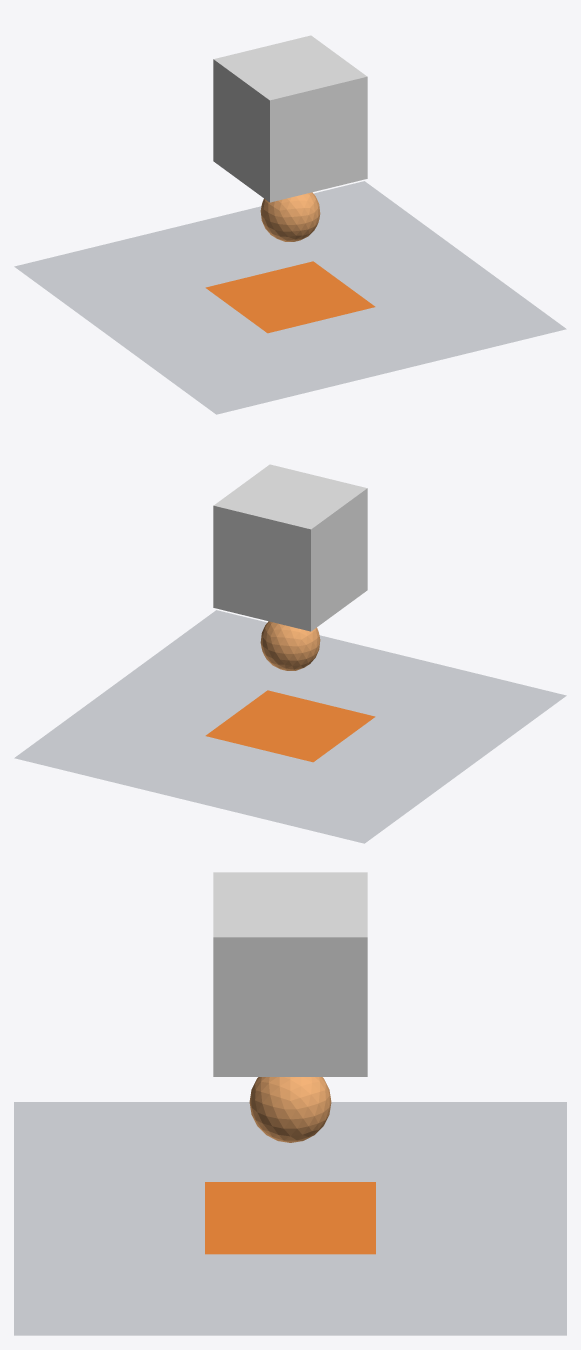
Rendered from SmokeWater.glb.
3 views of the same model, one above another, from view 1: azimuth 30°, elevation 25°; view 2: azimuth 150°, elevation 25°; view 3: azimuth 270°, elevation 25° (orthographic). The views are drawn at different scales.
Visible parts, largest first — view 1: Plane.002, Cube.001, Hot.001, VortexSphere.001; view 2: Plane.002, Cube.001, Hot.001, VortexSphere.001; view 3: Plane.002, Cube.001, Hot.001, VortexSphere.001.
Boxes of the visible parts, x1=… form: Plane.002: x1=14, y1=181, x2=566, y2=414; Cube.001: x1=213, y1=35, x2=367, y2=202; Hot.001: x1=205, y1=261, x2=375, y2=333; VortexSphere.001: x1=260, y1=192, x2=320, y2=241; Plane.002: x1=14, y1=610, x2=566, y2=843; Cube.001: x1=213, y1=464, x2=367, y2=631; Hot.001: x1=205, y1=690, x2=375, y2=762; VortexSphere.001: x1=260, y1=621, x2=320, y2=670; Plane.002: x1=14, y1=1102, x2=566, y2=1335; Cube.001: x1=213, y1=872, x2=367, y2=1076; Hot.001: x1=205, y1=1182, x2=375, y2=1254; VortexSphere.001: x1=249, y1=1077, x2=331, y2=1142.
Size of the model in its own units: 6.48 by 4.06 by 6.48.
